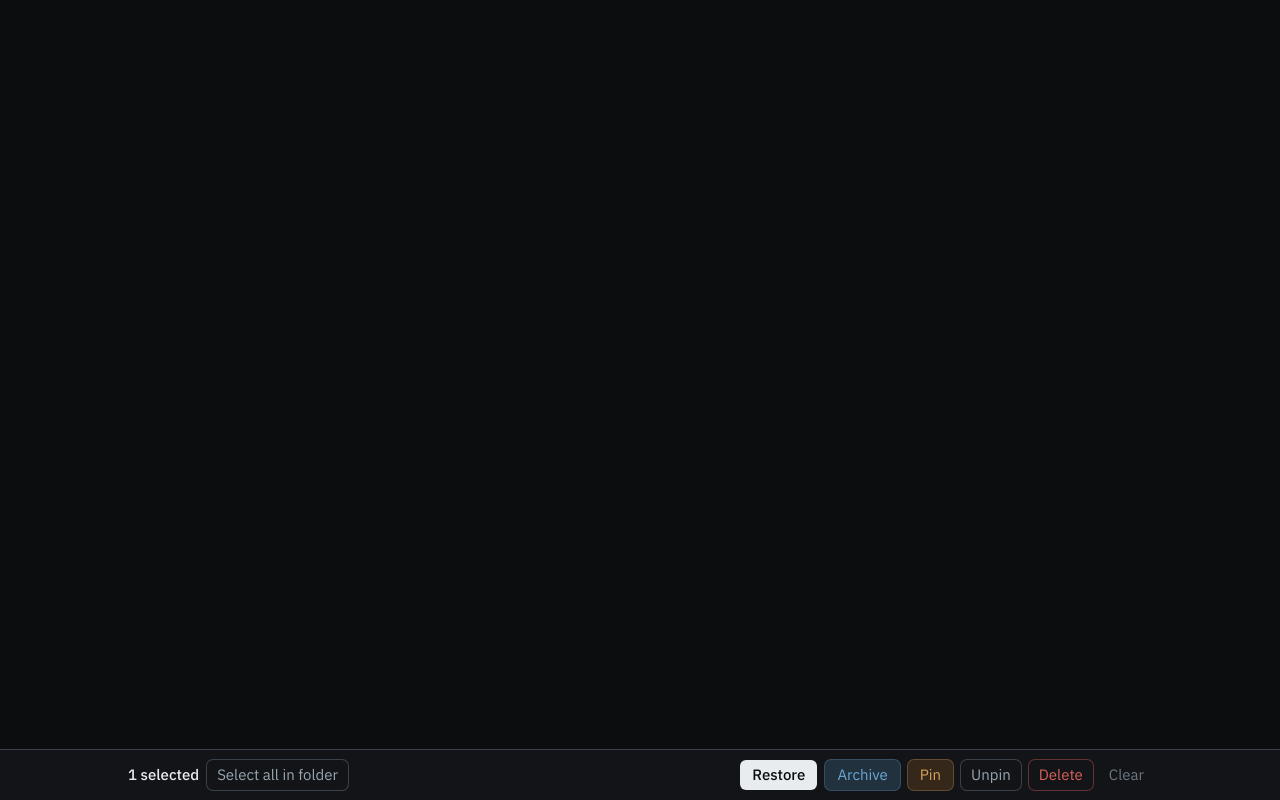
Scenario: SelectionBar › should say the folder will simply stay over budget when nothing is evictable
The image size is (1280, 800).
What coordinates should you click on to do the following:
click the button "Restore"
I would click on:
 (779, 775)
Its box is [740,760,817,790].
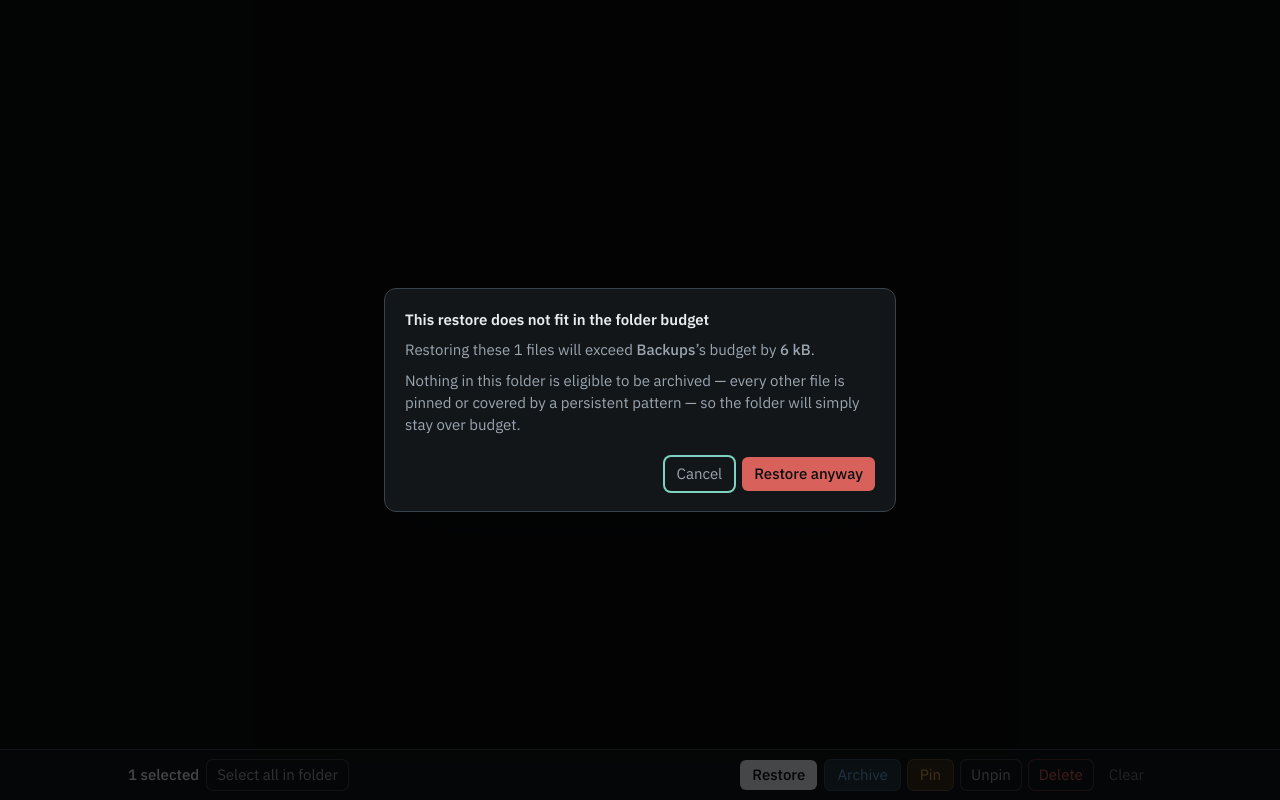
Expected: the dialog does not show "other files to make room", [384,288,896,512]
Expected: the dialog shows "every other file is pinned", [405,371,860,434]
